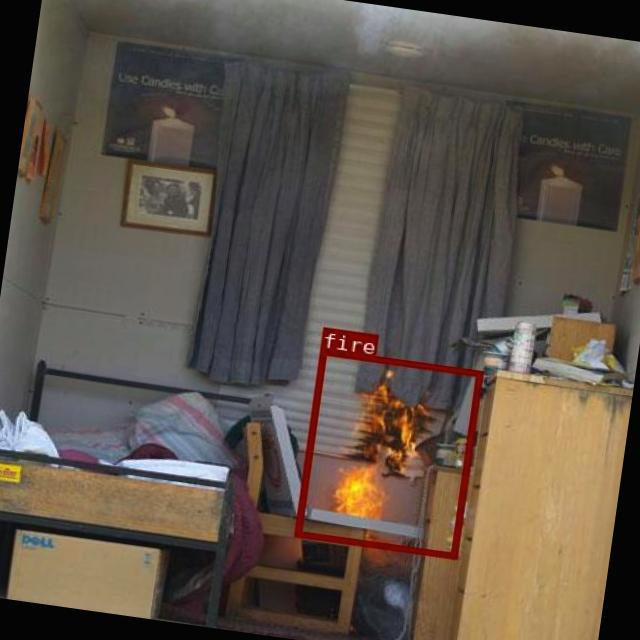fire: (294, 347, 482, 558)
